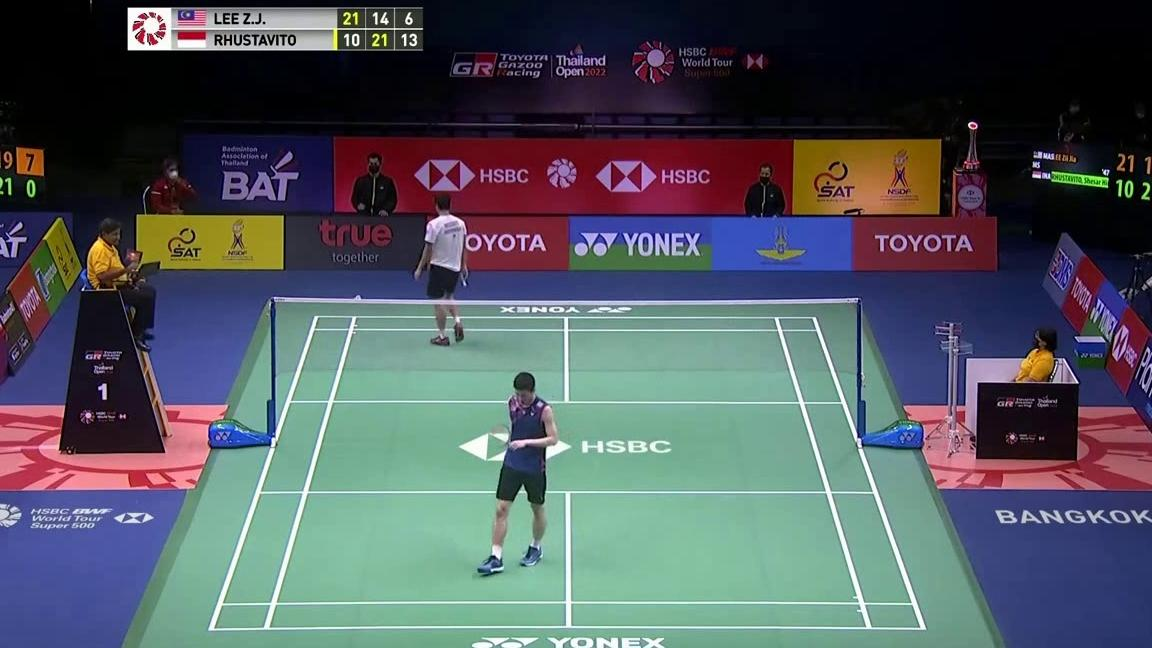racket: (489, 423, 513, 449), (459, 272, 468, 288)
shuttle: (355, 294, 361, 302)
